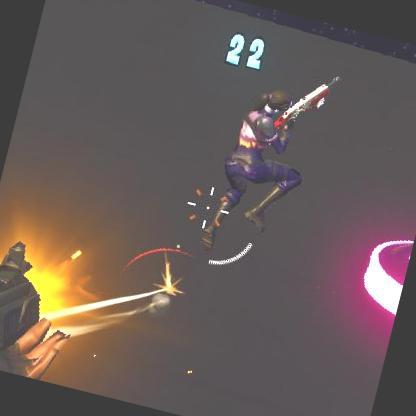person: (207, 67, 332, 248)
